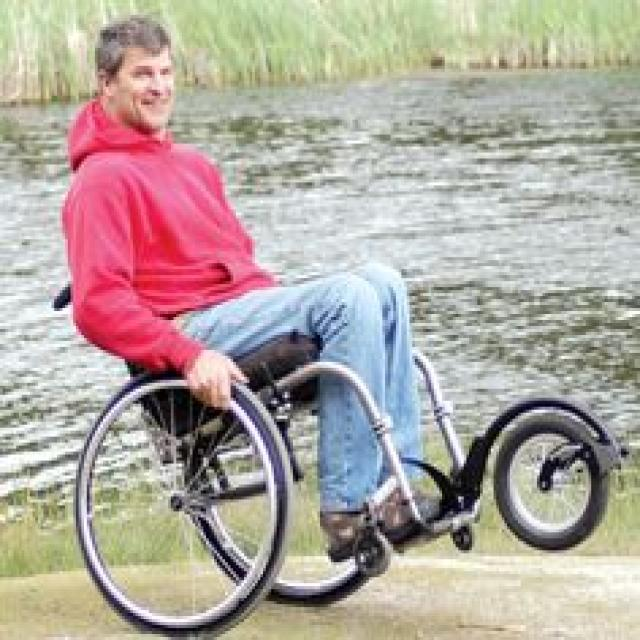wheelchairs: (43, 284, 445, 628)
